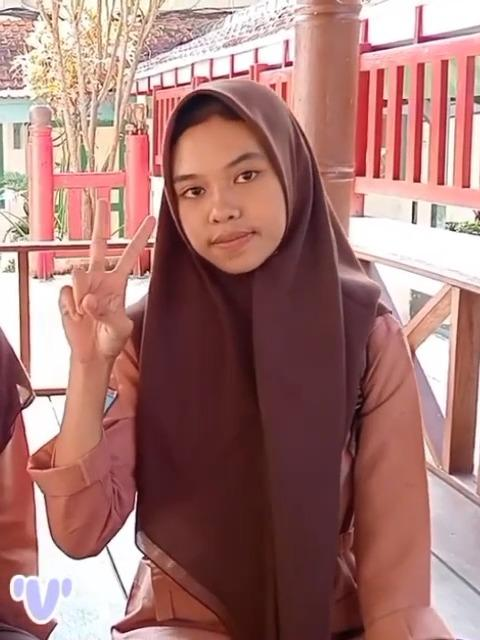V: (57, 192, 160, 356)
